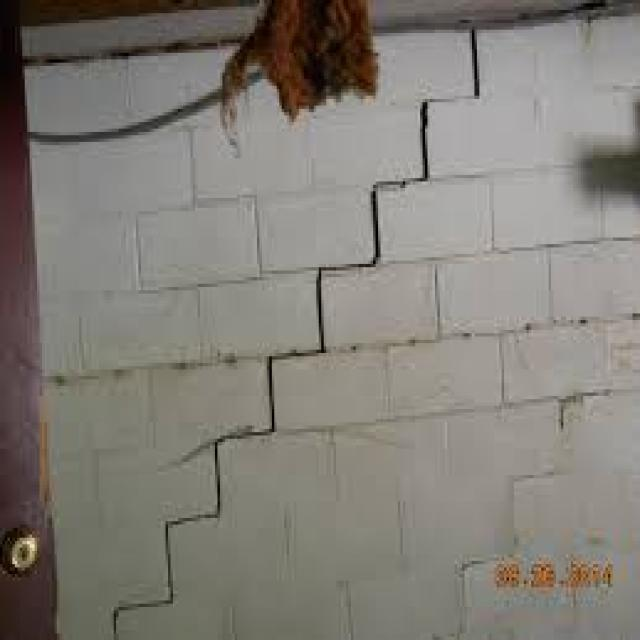Crack: (109, 26, 482, 637)
